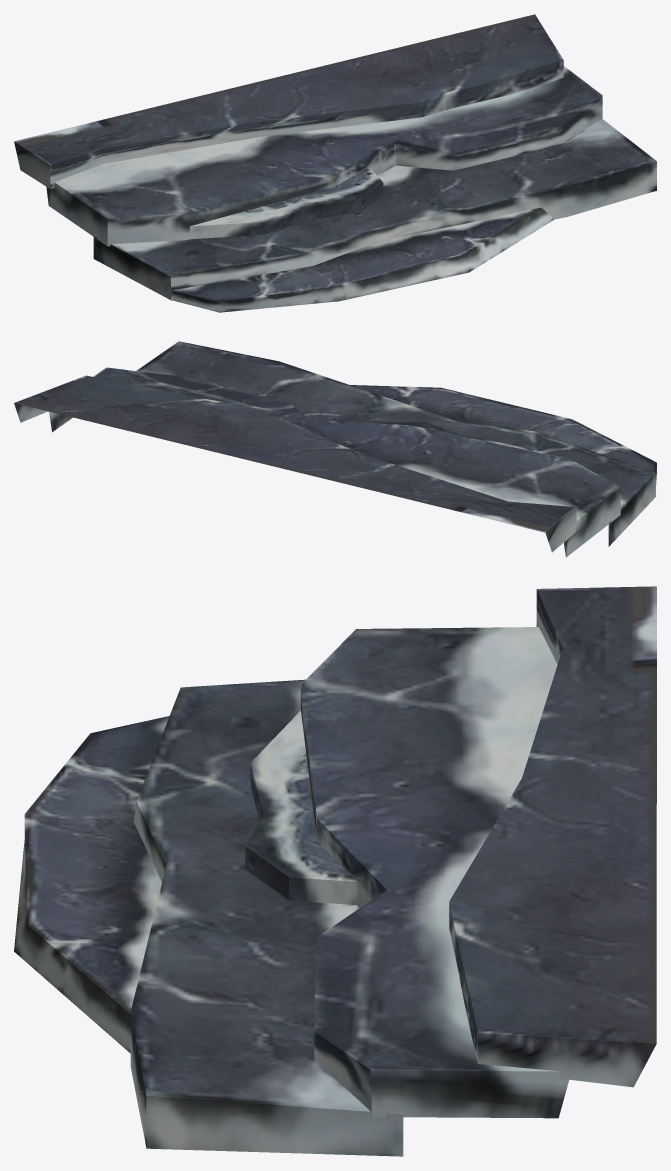
File: yw_xuesebingfeng_shijie.FBX
3 renders of one model, top to bottom at view 1: azimuth 30°, elevation 25°; view 2: azimuth 150°, elevation 25°; view 3: azimuth 270°, elevation 25°, orthographic. The views are drawn at different scales.
Parts seen in each view (by area): view 1: yw_xuesebingfeng_shijie; view 2: yw_xuesebingfeng_shijie; view 3: yw_xuesebingfeng_shijie.
Boxes of the visible parts, x1,y1,x2,y2 form: yw_xuesebingfeng_shijie: (14, 14, 656, 312); yw_xuesebingfeng_shijie: (14, 341, 656, 557); yw_xuesebingfeng_shijie: (14, 586, 656, 1156).
Bounding box in the file's own units: 1167 × 146 × 693.
